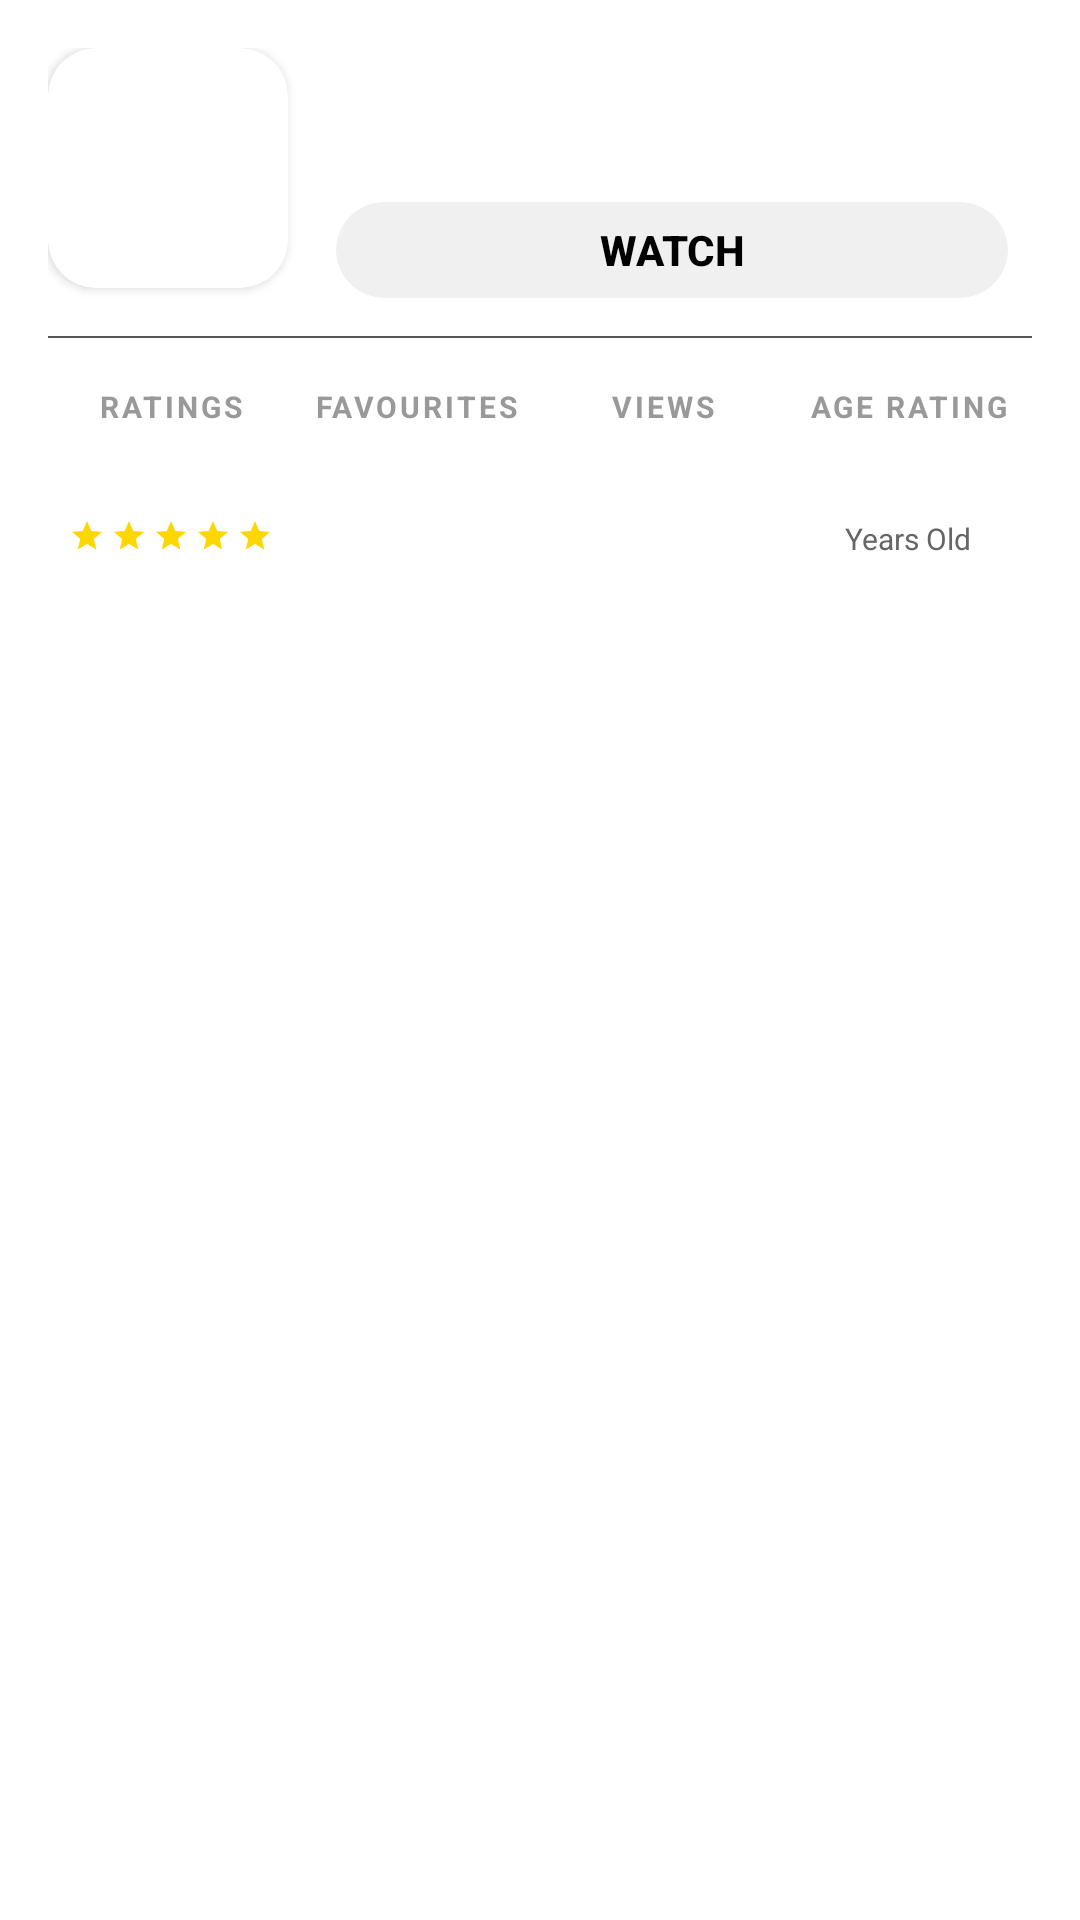

Icon bounding boxes for this 1080*1920 phone screenshot, format (x1, y1, x2, y2):
star: (72, 521, 102, 550), (114, 521, 144, 550), (156, 521, 186, 550), (198, 521, 228, 550), (240, 521, 270, 550)
